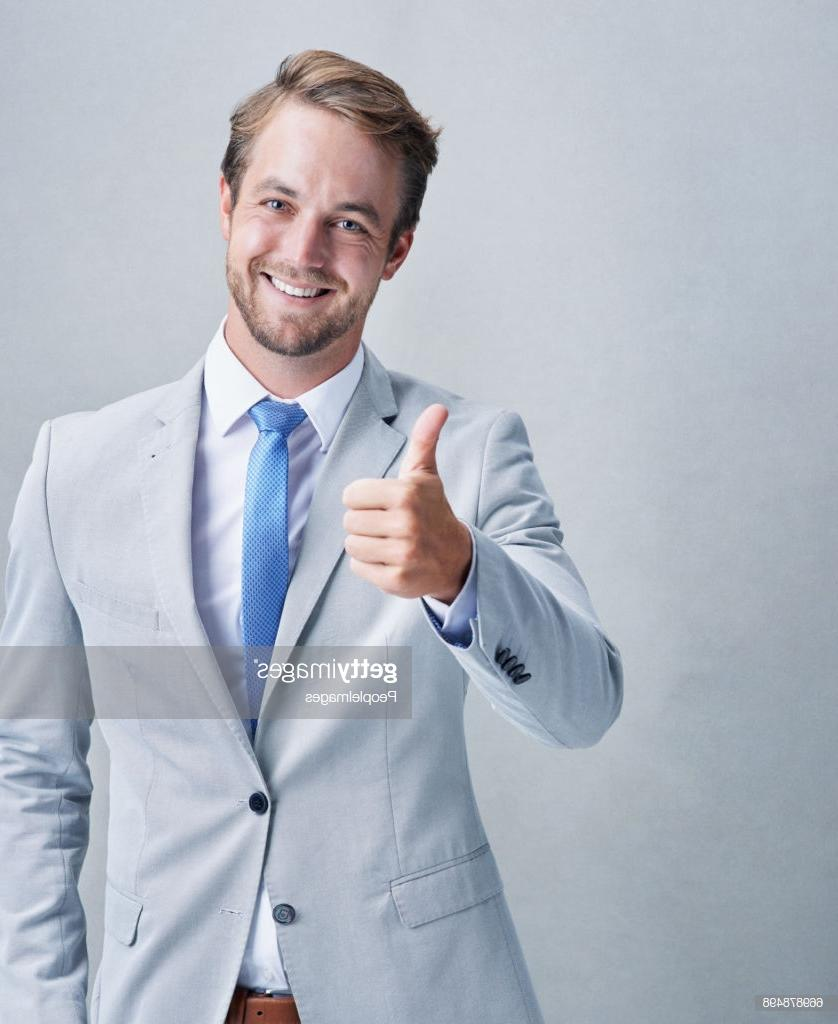thumbsup: (342, 403, 450, 595)
